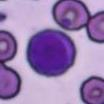M: (26, 30, 76, 76)
